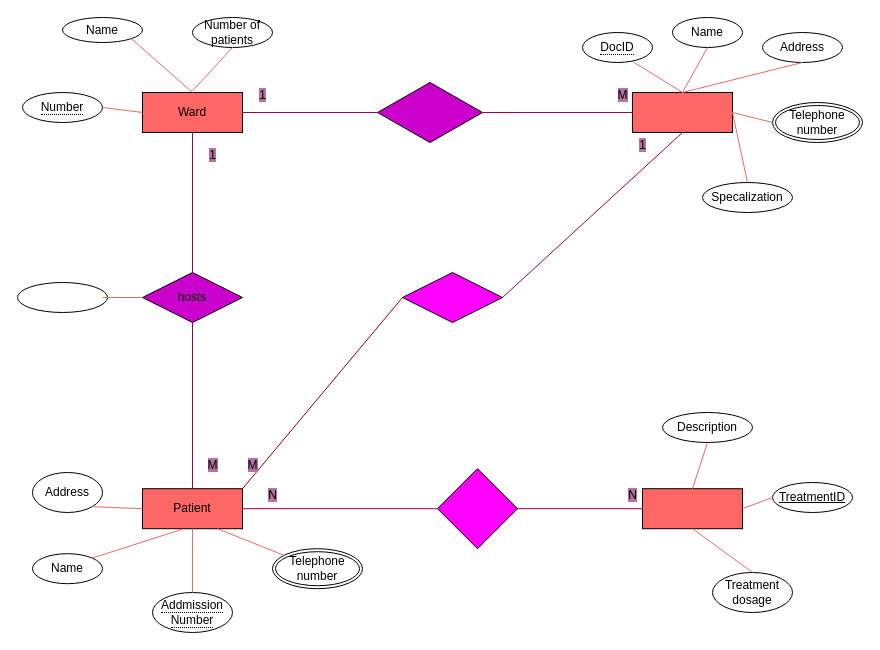
The diagram is 880 pixels wide and 650 high, and some of its shapes have lost their labels. The shapes that lost their labels are listed below. From the top down, each one's centre as x and y in pixels, then its label:
(x=429, y=112): Has
(x=682, y=112): Docter
(x=62, y=297): Addmisiion date
(x=452, y=297): treats
(x=477, y=508): Recieves
(x=692, y=508): Treatment
